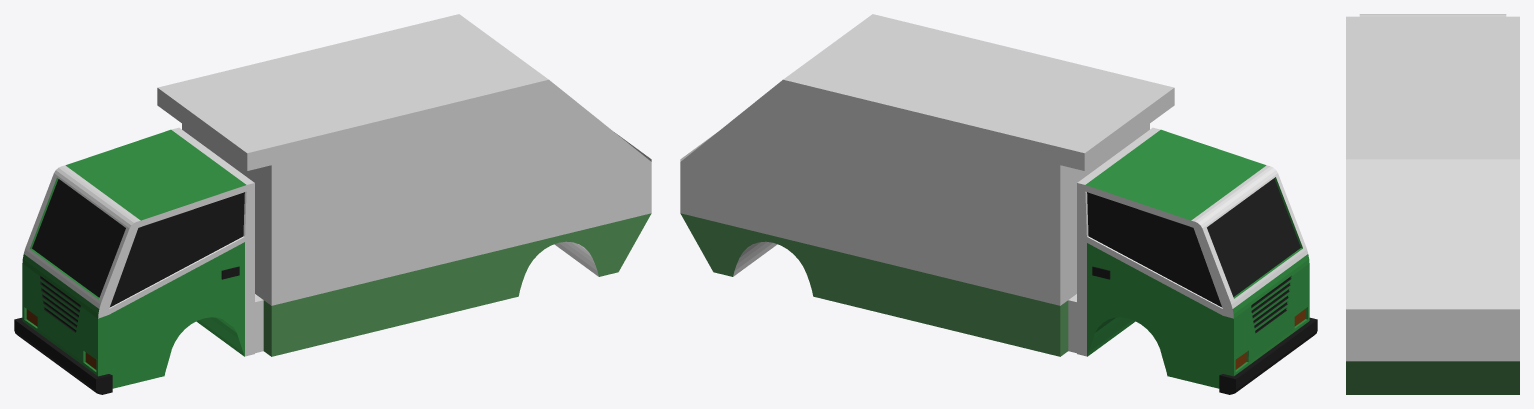
Rendered from truckframe.glb.
3 renders of one model, left to right at view 1: azimuth 30°, elevation 25°; view 2: azimuth 150°, elevation 25°; view 3: azimuth 270°, elevation 25°, orthographic. The views are drawn at different scales.
Parts seen in each view (by area): view 1: truck_buri, truck_depan; view 2: truck_buri, truck_depan; view 3: truck_buri, truck_depan.
Boxes of the visible parts, x1=… form: truck_buri: x1=157, y1=14, x2=651, y2=356; truck_depan: x1=14, y1=127, x2=254, y2=394; truck_buri: x1=680, y1=14, x2=1174, y2=356; truck_depan: x1=1077, y1=127, x2=1317, y2=394; truck_buri: x1=1346, y1=16, x2=1519, y2=394; truck_depan: x1=1359, y1=14, x2=1506, y2=16.
Bounding box in the file's own units: 8.43 × 3.07 × 2.37.
